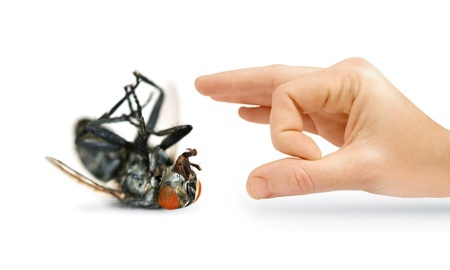phorid fly: (43, 54, 204, 227)
